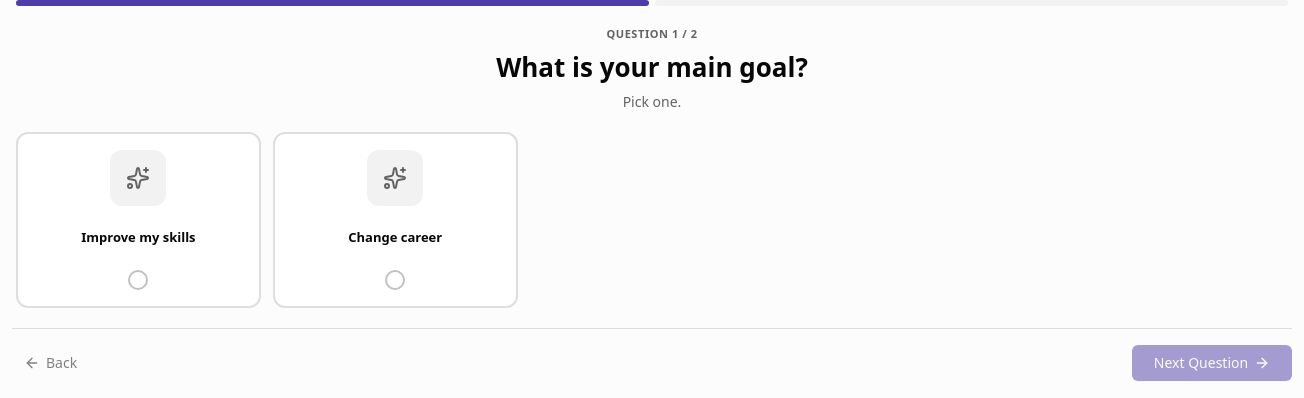
Test case: answers survive navigation (§16) › still has the earlier selections after Back
Click the radio button labelled "Change career" at (395, 220), box [273,132,518,308]
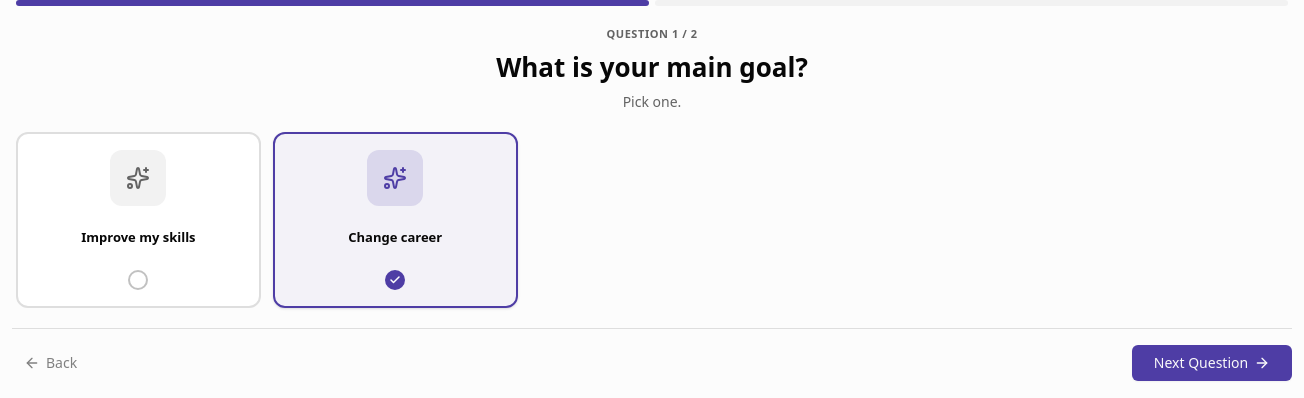
Click the button "Next Question" at (1212, 363), box [1132,345,1292,381]
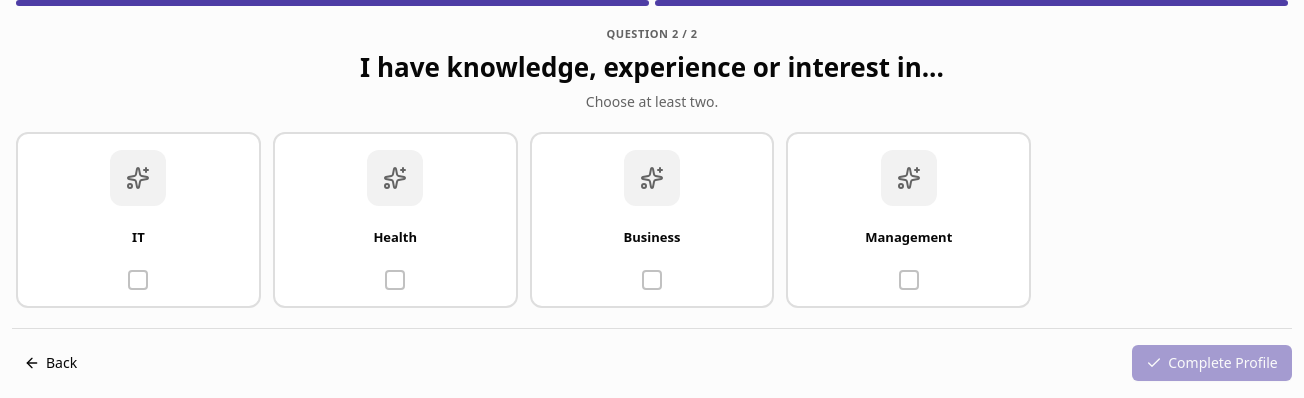
Now the text "Question 2 / 2" is shown, box [606,26,698,41]
Click the checkbox labelled "IT" at (138, 220), box [16,132,261,308]
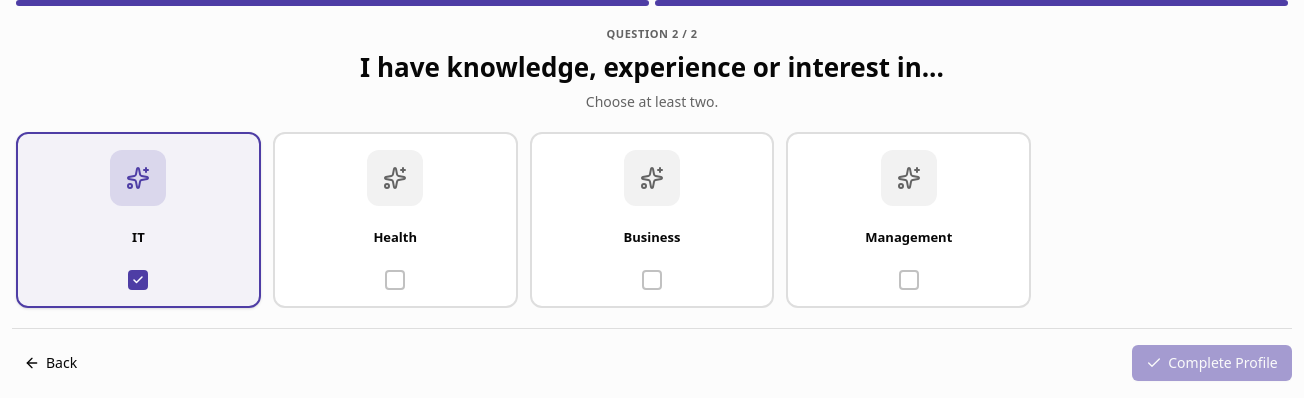
Click the button "Back" at (51, 363), box [12,345,89,381]
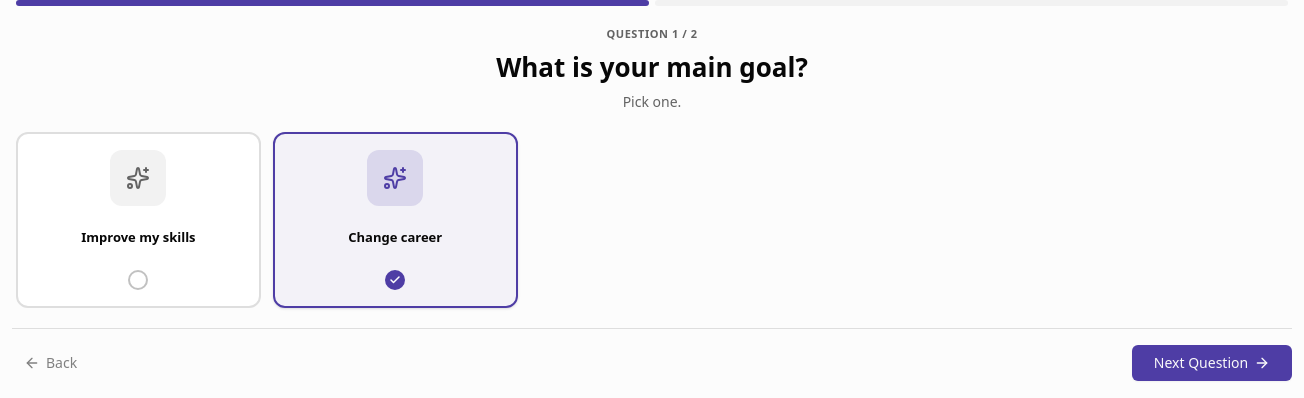
Now the text "Question 1 / 2" is shown, box [606,26,698,41]
Now the radio button labelled "Change career" is checked, box [273,132,518,308]
# And forward again, to prove the second question kept its answer too.
Click the button "Next Question" at (1212, 363), box [1132,345,1292,381]
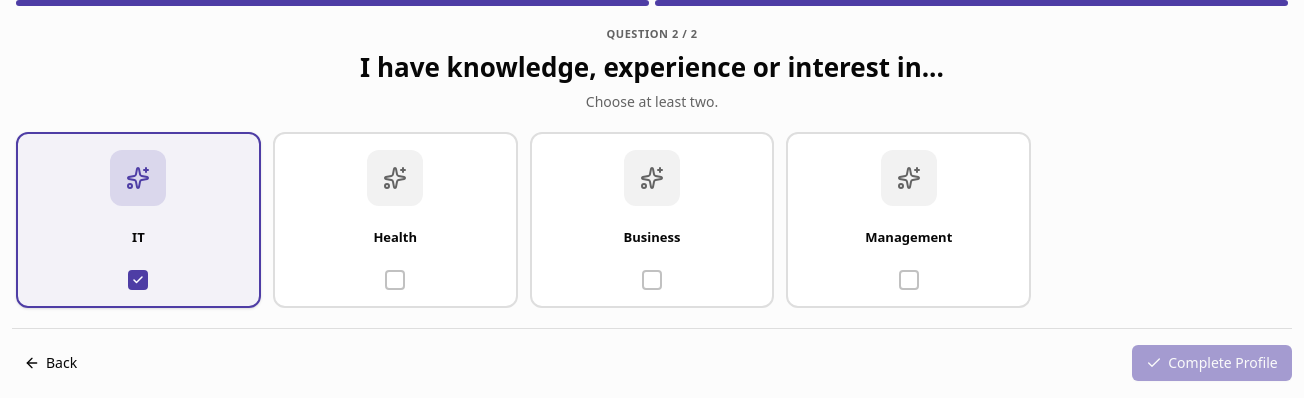
Now the checkbox labelled "IT" is checked, box [16,132,261,308]
